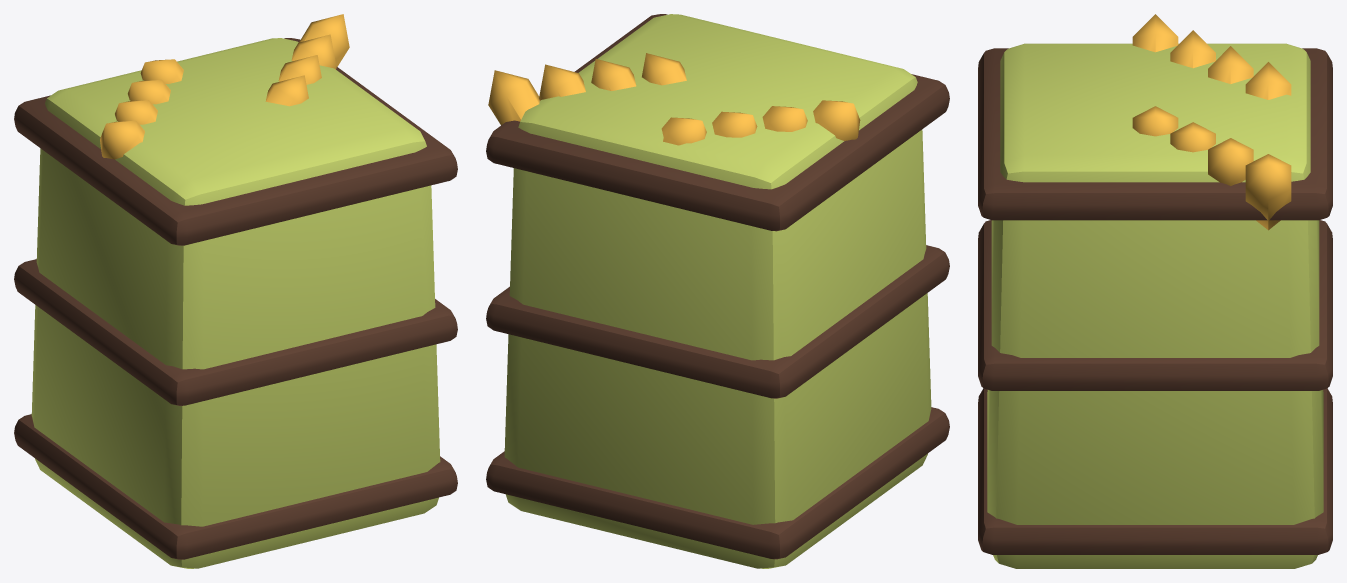
Rendered from W3_FruitCrate_B.fbx.
3 renders of one model, left to right at view 1: azimuth 30°, elevation 25°; view 2: azimuth 150°, elevation 25°; view 3: azimuth 270°, elevation 25°, orthographic. The views are drawn at different scales.
Visible parts, largest first — view 1: W3_FruitCrate_B; view 2: W3_FruitCrate_B; view 3: W3_FruitCrate_B.
Boxes of the visible parts, x1,y1,x2,y2 form: W3_FruitCrate_B: [14, 14, 457, 568]; W3_FruitCrate_B: [486, 14, 949, 568]; W3_FruitCrate_B: [978, 14, 1332, 568].
Bounding box in the file's own units: 1.01 × 1.25 × 0.9424.
